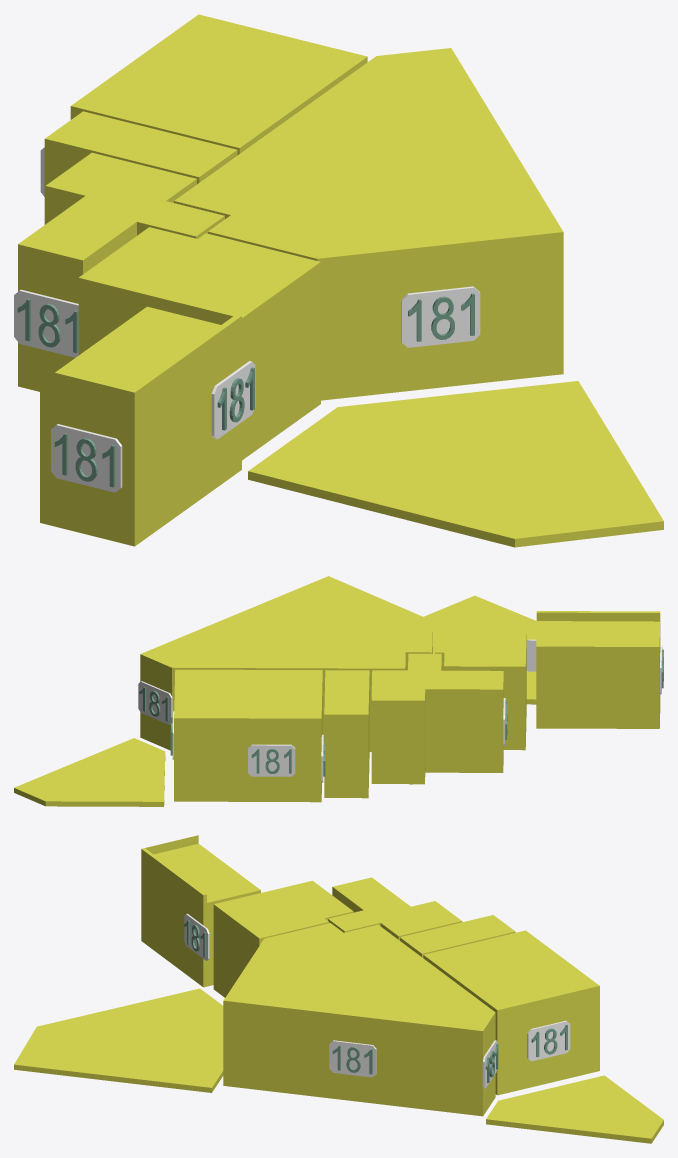
3 views of the same model, one above another, from view 1: azimuth 30°, elevation 25°; view 2: azimuth 150°, elevation 25°; view 3: azimuth 270°, elevation 25° (orthographic). The views are drawn at different scales.
Visible parts, largest first — view 1: g_0, g_7, g_5, g_4, g_1, g_3, g_2, g_31, g_43, g_15, g_19; view 2: g_0, g_1, g_3, g_5, g_6, g_4, g_2, g_7, g_23, g_35, g_19; view 3: g_0, g_1, g_7, g_5, g_6, g_4, g_3, g_2, g_39, g_27, g_19.
Boxes of the visible parts, x1,y1,x2,y2 form: g_0: [174, 48, 563, 400]; g_7: [248, 381, 663, 547]; g_5: [40, 306, 241, 546]; g_4: [78, 227, 320, 460]; g_1: [70, 14, 367, 154]; g_3: [18, 152, 224, 391]; g_2: [44, 111, 237, 224]; g_31: [401, 286, 480, 347]; g_43: [51, 424, 122, 492]; g_15: [14, 289, 78, 357]; g_19: [211, 361, 255, 439]; g_0: [140, 576, 432, 751]; g_1: [174, 669, 322, 802]; g_3: [371, 653, 503, 784]; g_5: [536, 611, 660, 728]; g_6: [14, 738, 165, 806]; g_4: [435, 619, 526, 750]; g_2: [324, 670, 369, 798]; g_7: [423, 595, 536, 704]; g_23: [248, 744, 295, 776]; g_35: [138, 681, 172, 724]; g_19: [526, 639, 536, 671]; g_0: [223, 923, 495, 1116]; g_1: [423, 930, 599, 1095]; g_7: [14, 988, 223, 1092]; g_5: [141, 835, 260, 987]; g_6: [486, 1075, 663, 1143]; g_4: [213, 880, 353, 997]; g_3: [328, 877, 462, 940]; g_2: [400, 915, 515, 957]; g_39: [329, 1040, 376, 1077]; g_27: [527, 1020, 570, 1061]; g_19: [184, 913, 209, 960].
Bounding box in the file's own units: 13.28 × 2.85 × 17.25.
